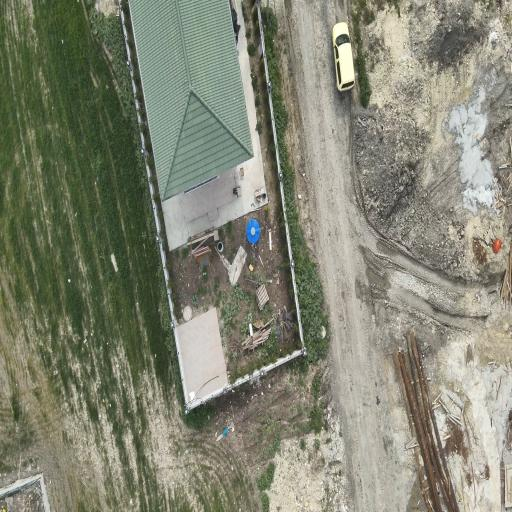car: (333, 23, 354, 91)
